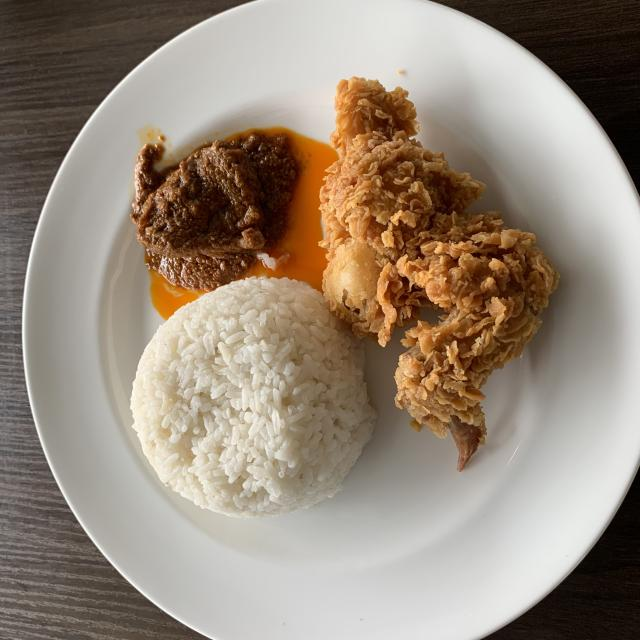Wet Waste: (320, 70, 555, 464), (128, 278, 373, 517), (132, 130, 301, 291)
